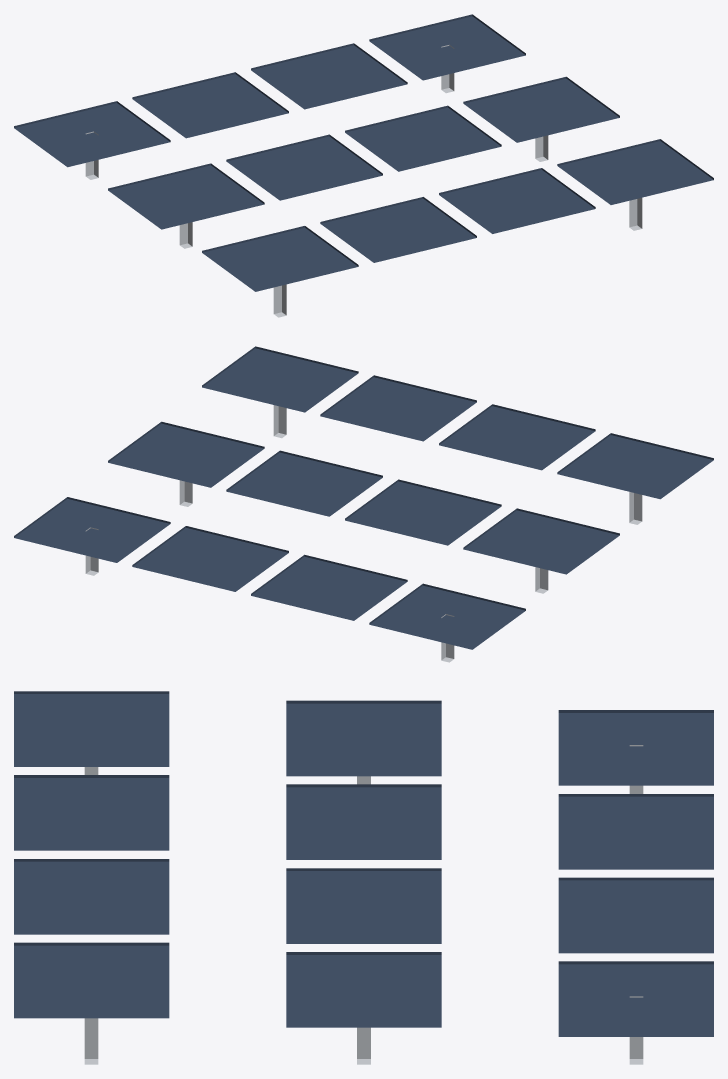
The model's file is solar_array.gltf.
3 renders of one model, top to bottom at view 1: azimuth 30°, elevation 25°; view 2: azimuth 150°, elevation 25°; view 3: azimuth 270°, elevation 25°, orthographic. The views are drawn at different scales.
Visible parts, largest first — view 1: panel_0_2, panel_1_1, panel_1_0, panel_1_3, panel_0_3, panel_2_0, panel_0_0, panel_2_1, panel_2_2, panel_2_3, panel_0_1, panel_1_2; view 2: panel_2_3, panel_1_0, panel_0_2, panel_2_0, panel_1_3, panel_2_1, panel_2_2, panel_0_0, panel_0_1, panel_1_1, panel_1_2, panel_0_3; view 3: panel_1_0, panel_0_2, panel_2_3, panel_0_1, panel_0_3, panel_1_1, panel_1_2, panel_1_3, panel_2_0, panel_2_1, panel_2_2, panel_0_0 (+1 smaller).
Part boxes in pixels (box(x1,y1,x2,y2)): panel_0_2: box(251, 43, 407, 109); panel_1_1: box(226, 134, 382, 200); panel_1_0: box(108, 163, 264, 229); panel_1_3: box(463, 76, 619, 142); panel_0_3: box(369, 14, 525, 80); panel_2_0: box(202, 226, 358, 291); panel_0_0: box(14, 101, 170, 167); panel_2_1: box(320, 197, 476, 262); panel_2_2: box(439, 168, 595, 233); panel_2_3: box(557, 139, 713, 204); panel_0_1: box(132, 72, 288, 138); panel_1_2: box(345, 105, 501, 171); panel_2_3: box(202, 346, 358, 412); panel_1_0: box(463, 508, 619, 574); panel_0_2: box(132, 526, 288, 591); panel_2_0: box(557, 433, 713, 499); panel_1_3: box(108, 421, 264, 487); panel_2_1: box(439, 404, 595, 470); panel_2_2: box(320, 375, 476, 441); panel_0_0: box(369, 583, 525, 649); panel_0_1: box(251, 554, 407, 620); panel_1_1: box(345, 479, 501, 545); panel_1_2: box(226, 450, 382, 516); panel_0_3: box(14, 497, 170, 562); panel_1_0: box(286, 700, 441, 776); panel_0_2: box(558, 877, 713, 953); panel_2_3: box(14, 942, 169, 1018); panel_0_1: box(558, 794, 713, 869); panel_0_3: box(558, 961, 713, 1036); panel_1_1: box(286, 784, 441, 859); panel_1_2: box(286, 868, 441, 943); panel_1_3: box(286, 952, 441, 1027); panel_2_0: box(14, 691, 169, 766); panel_2_1: box(14, 775, 169, 850); panel_2_2: box(14, 859, 169, 934); panel_0_0: box(558, 710, 713, 785).
Bounding box in the file's own units: 4.45 × 0.5291 × 4.06.
